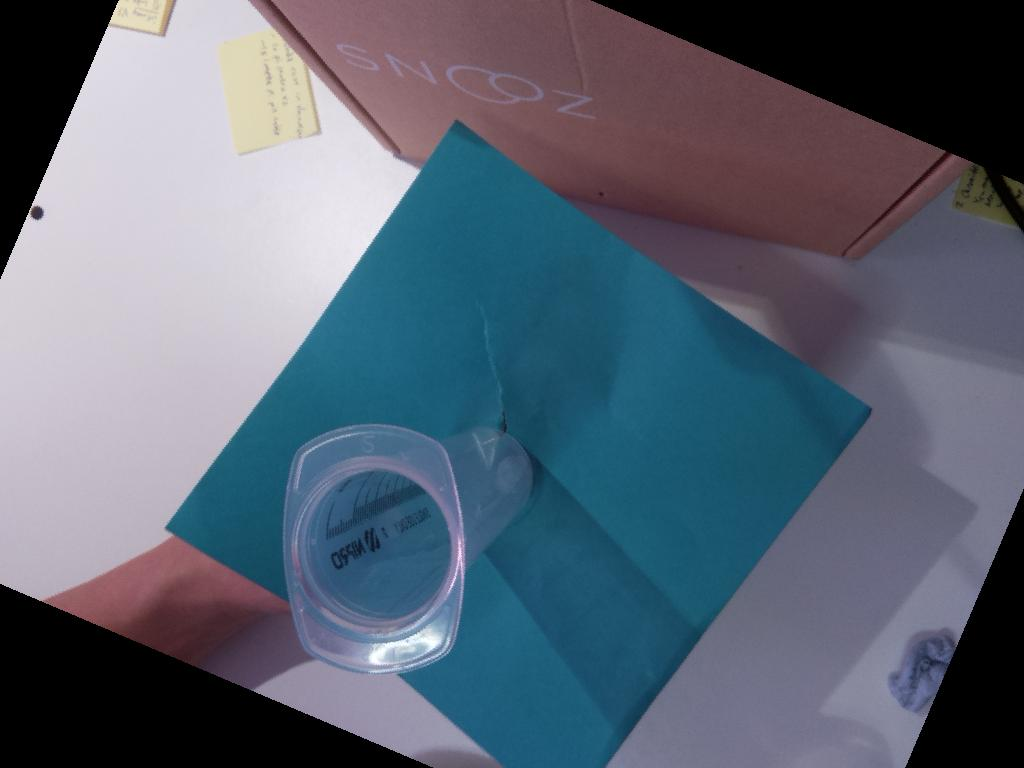clean: (277, 422, 468, 675)
